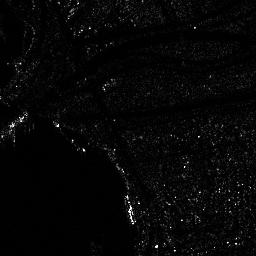ship: (1, 110, 29, 139), (122, 192, 137, 225)
